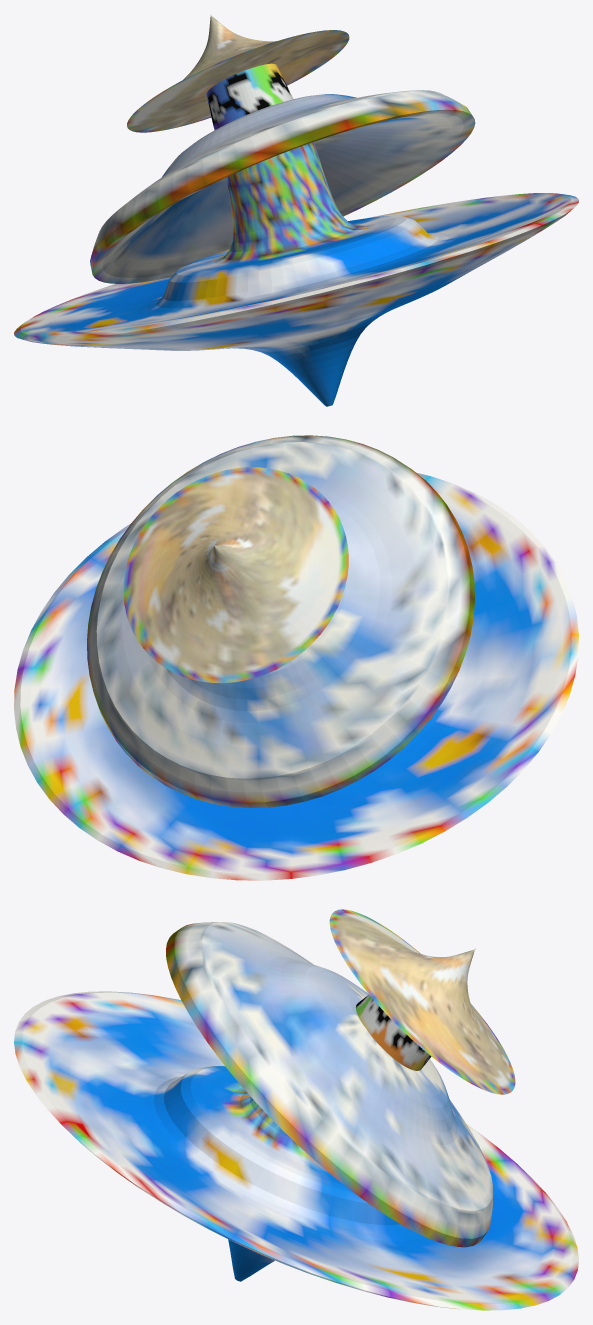
Rendered from april28outdoorpagoda19.glb.
3 renders of one model, top to bottom at view 1: azimuth 30°, elevation 25°; view 2: azimuth 150°, elevation 25°; view 3: azimuth 270°, elevation 25°, orthographic. The views are drawn at different scales.
Visible parts, largest first — view 1: Lathe 4, Lathe 3, Lathe, Lathe.001; view 2: Lathe 4, Lathe 3, Lathe; view 3: Lathe 4, Lathe 3, Lathe, Lathe.001.
Boxes of the visible parts, <box> form: Lathe 4: <box>14,142,578,406</box>; Lathe 3: <box>90,90,475,283</box>; Lathe: <box>127,14,349,132</box>; Lathe.001: <box>206,63,293,130</box>; Lathe 4: <box>14,472,578,880</box>; Lathe 3: <box>87,435,474,808</box>; Lathe: <box>123,467,348,682</box>; Lathe 4: <box>14,991,578,1310</box>; Lathe 3: <box>166,922,493,1247</box>; Lathe: <box>329,909,515,1094</box>; Lathe.001: <box>355,994,431,1070</box>.
Bounding box in the file's own units: 3.74 × 2.39 × 3.45.
